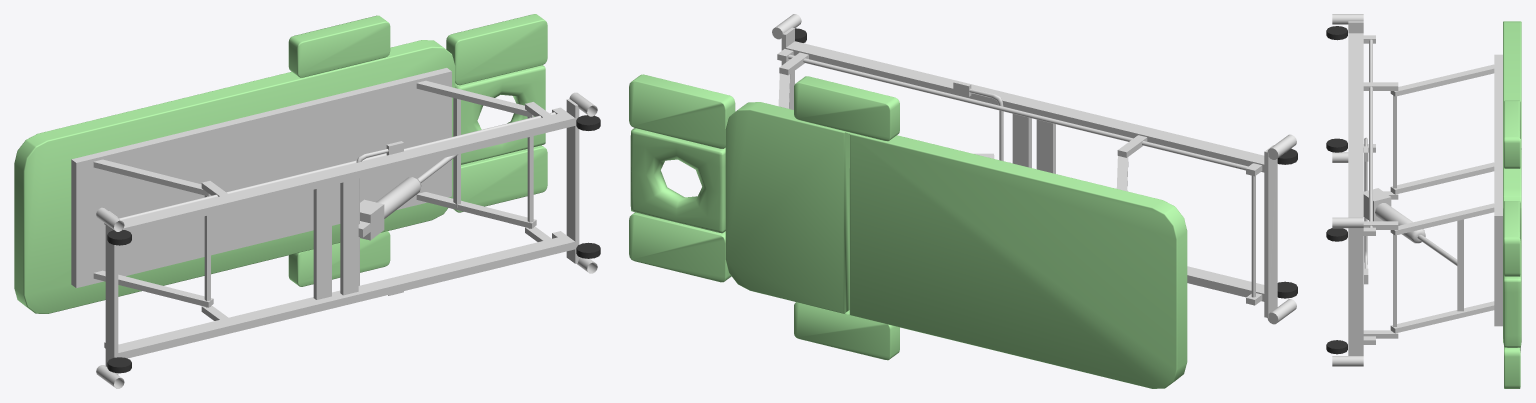
The picture shows the model from 3 angles, left to right: view 1: azimuth 30°, elevation 25°; view 2: azimuth 150°, elevation 25°; view 3: azimuth 270°, elevation 25°; orthographic projection. The views are drawn at different scales.
Visible parts, largest first — view 1: Cube.002; view 2: Cube.002; view 3: Cube.002.
Part boxes in pixels (x1,y1,x2,y2): Cube.002: (14, 14, 600, 388); Cube.002: (629, 14, 1297, 388); Cube.002: (1326, 14, 1521, 388).
Bounding box in the file's own units: 215 × 94.14 × 77.09.
